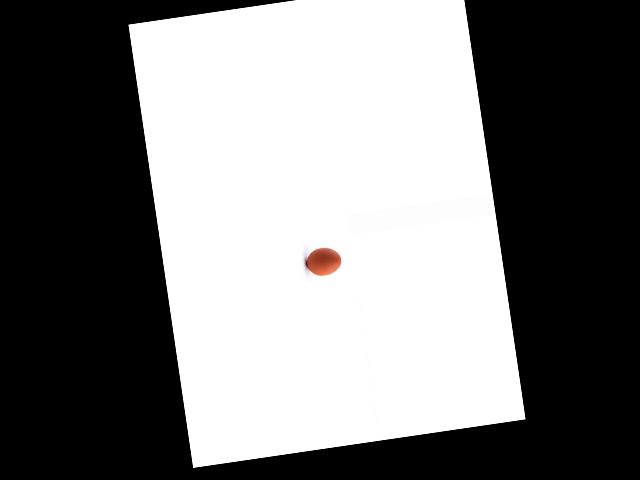egg: (304, 244, 342, 277)
